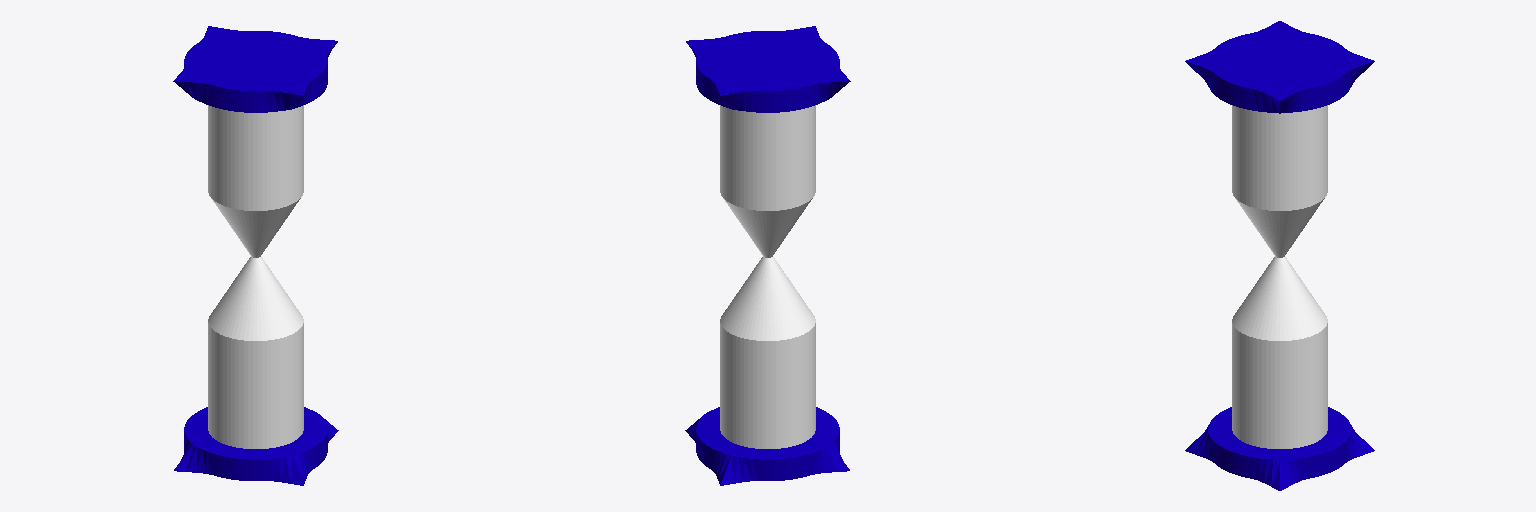
The model's file is timetravel.obj.
3 renders of one model, left to right at view 1: azimuth 30°, elevation 25°; view 2: azimuth 150°, elevation 25°; view 3: azimuth 270°, elevation 25°, orthographic.
Visible parts, largest first — view 1: Plane; view 2: Plane; view 3: Plane.
Boxes of the visible parts, x1,y1,x2,y2 form: Plane: [173, 26, 338, 485]; Plane: [685, 26, 850, 485]; Plane: [1185, 21, 1374, 490].
Size of the model in its own units: 0.8006 by 1.8 by 0.8006.